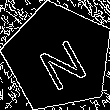N_NW: (29, 25, 88, 89)
